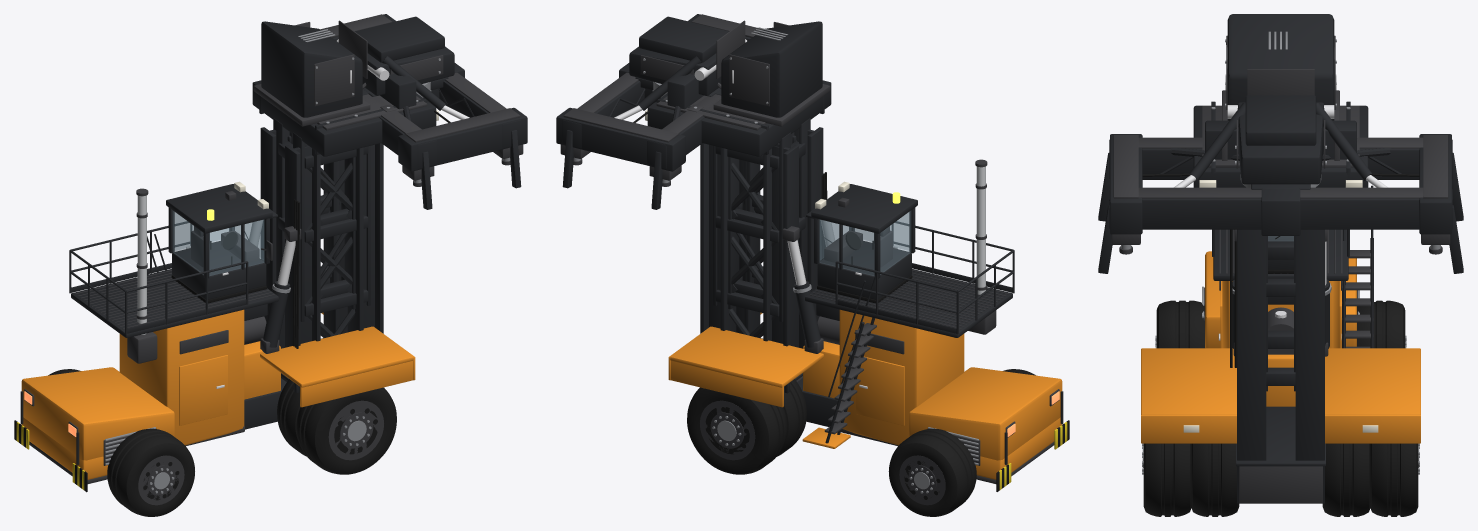
Rendered from toploader.fbx.
3 renders of one model, left to right at view 1: azimuth 30°, elevation 25°; view 2: azimuth 150°, elevation 25°; view 3: azimuth 270°, elevation 25°, orthographic. The views are drawn at different scales.
Visible parts, largest first — view 1: Kolom_Luar_flens_b.002; view 2: Kolom_Luar_flens_b.002; view 3: Kolom_Luar_flens_b.002.
Part boxes in pixels (x1,y1,x2,y2): Kolom_Luar_flens_b.002: [14, 14, 527, 516]; Kolom_Luar_flens_b.002: [556, 14, 1069, 516]; Kolom_Luar_flens_b.002: [1098, 14, 1463, 516].
Bounding box in the file's own units: 1013 × 955 × 649.
